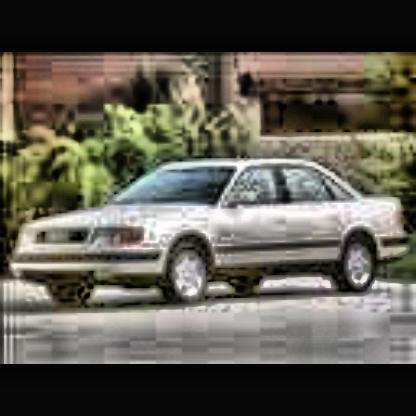Audi 100 Sedan 1994: (8, 163, 416, 315)
